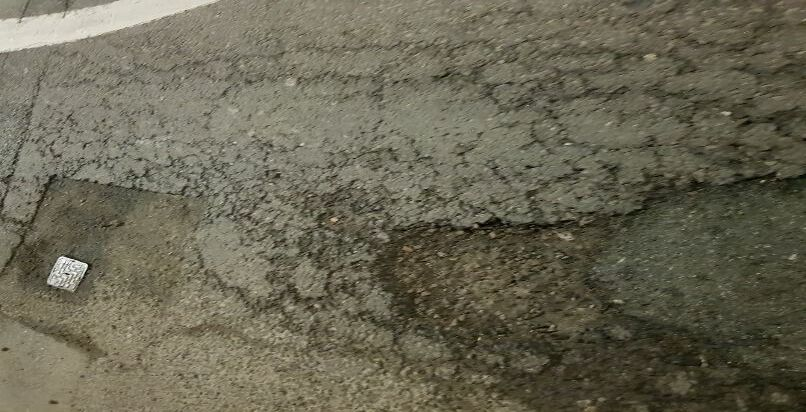pothole: (367, 208, 616, 368)
